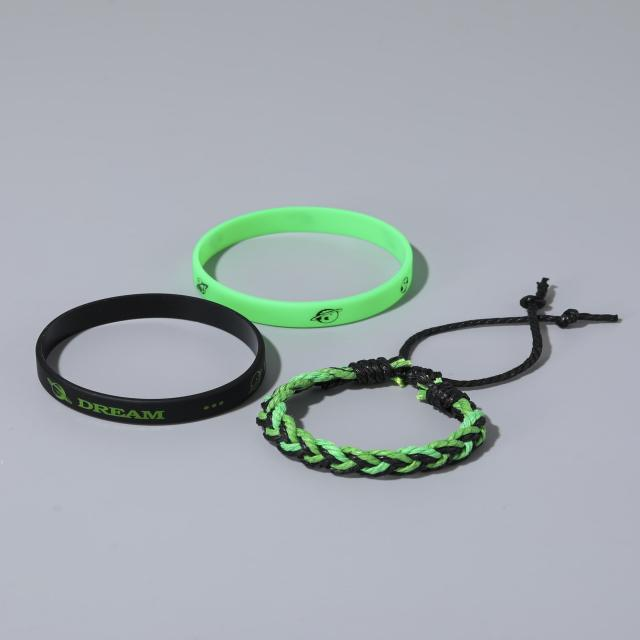bracelet: (49, 131, 640, 512)
